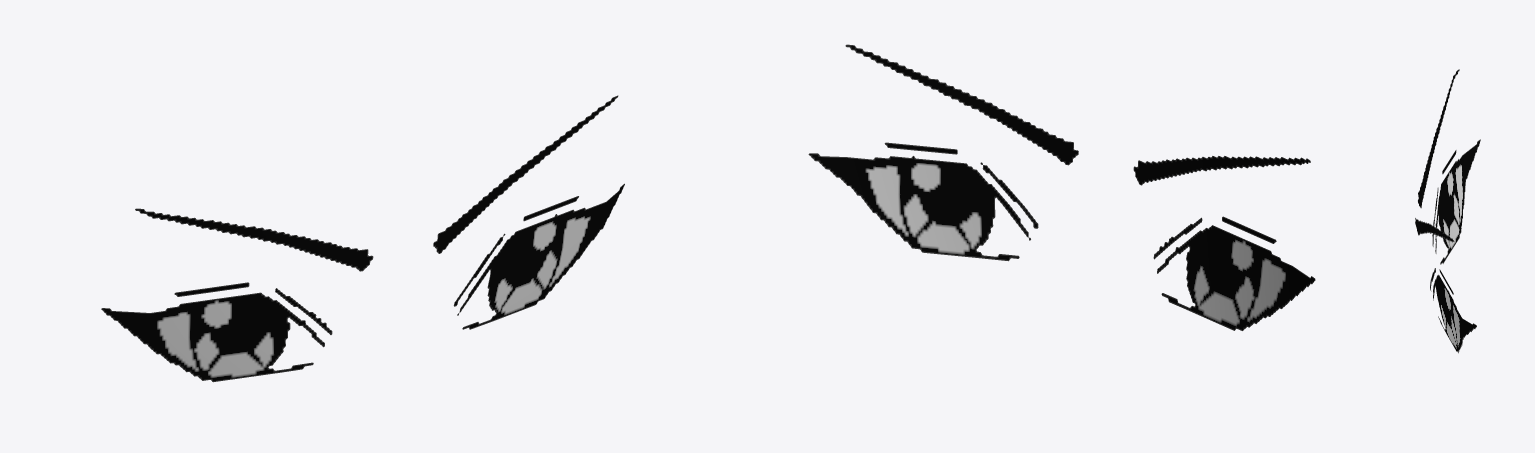
Rendered from eyes.gltf.
The picture shows the model from 3 angles, left to right: view 1: azimuth 30°, elevation 25°; view 2: azimuth 150°, elevation 25°; view 3: azimuth 270°, elevation 25°; orthographic projection. The views are drawn at different scales.
Parts seen in each view (by area): view 1: eyes1; view 2: eyes1; view 3: eyes1.
Part boxes in pixels (bbox=[...]): eyes1: bbox=[101, 95, 624, 382]; eyes1: bbox=[808, 44, 1315, 330]; eyes1: bbox=[1415, 69, 1480, 353].
Size of the model in its own units: 0.9013 by 0.3566 by 0.1941.
1 material, 1 textured.
